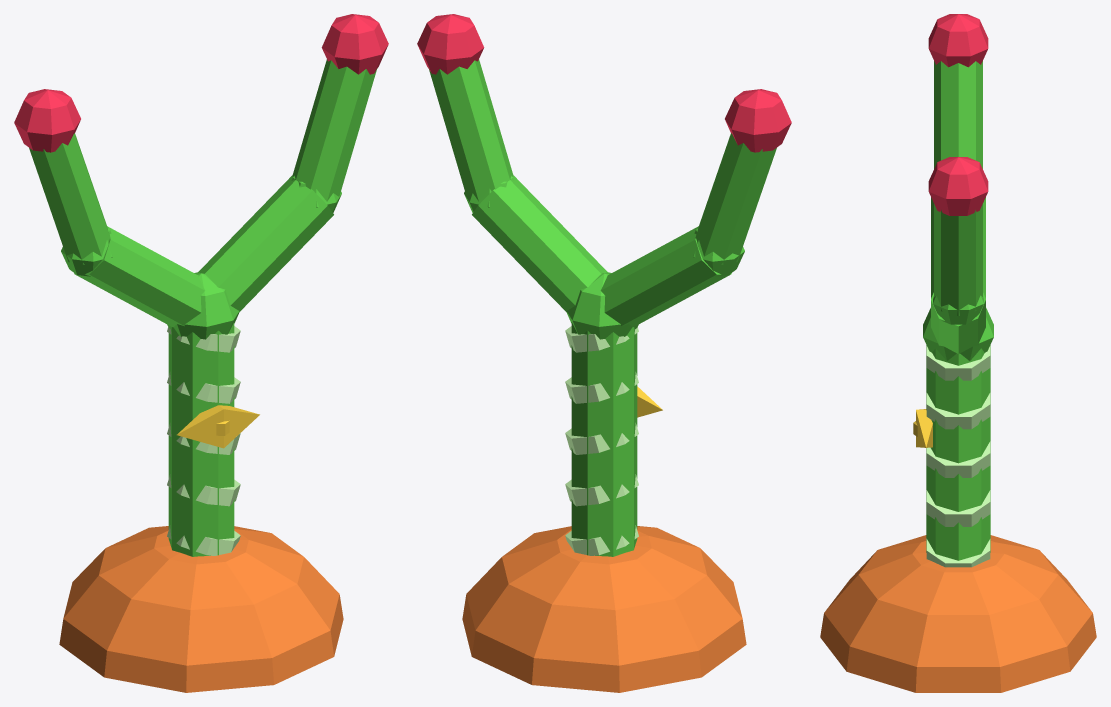
File: slingshot_2.fbx
The picture shows the model from 3 angles, left to right: view 1: azimuth 30°, elevation 25°; view 2: azimuth 150°, elevation 25°; view 3: azimuth 270°, elevation 25°; orthographic projection. The views are drawn at different scales.
Visible parts, largest first — view 1: Frame, Base, Tips, Stripes, Bow; view 2: Frame, Base, Tips, Stripes; view 3: Base, Frame, Tips, Stripes, Bow.
Boxes of the visible parts, box(x1,y1,x2,y2) form: Frame: box(29, 59, 377, 556); Base: box(59, 526, 343, 692); Tips: box(14, 14, 388, 152); Stripes: box(167, 326, 240, 555); Bow: box(177, 405, 259, 448); Frame: box(428, 59, 776, 556); Base: box(462, 526, 746, 692); Tips: box(417, 14, 791, 152); Stripes: box(565, 326, 638, 555); Base: box(820, 535, 1096, 692); Frame: box(923, 61, 993, 560); Tips: box(928, 14, 988, 215); Stripes: box(926, 346, 990, 567); Bow: box(913, 409, 932, 447).
Size of the model in its own units: 5.18 by 7.92 by 3.6.
